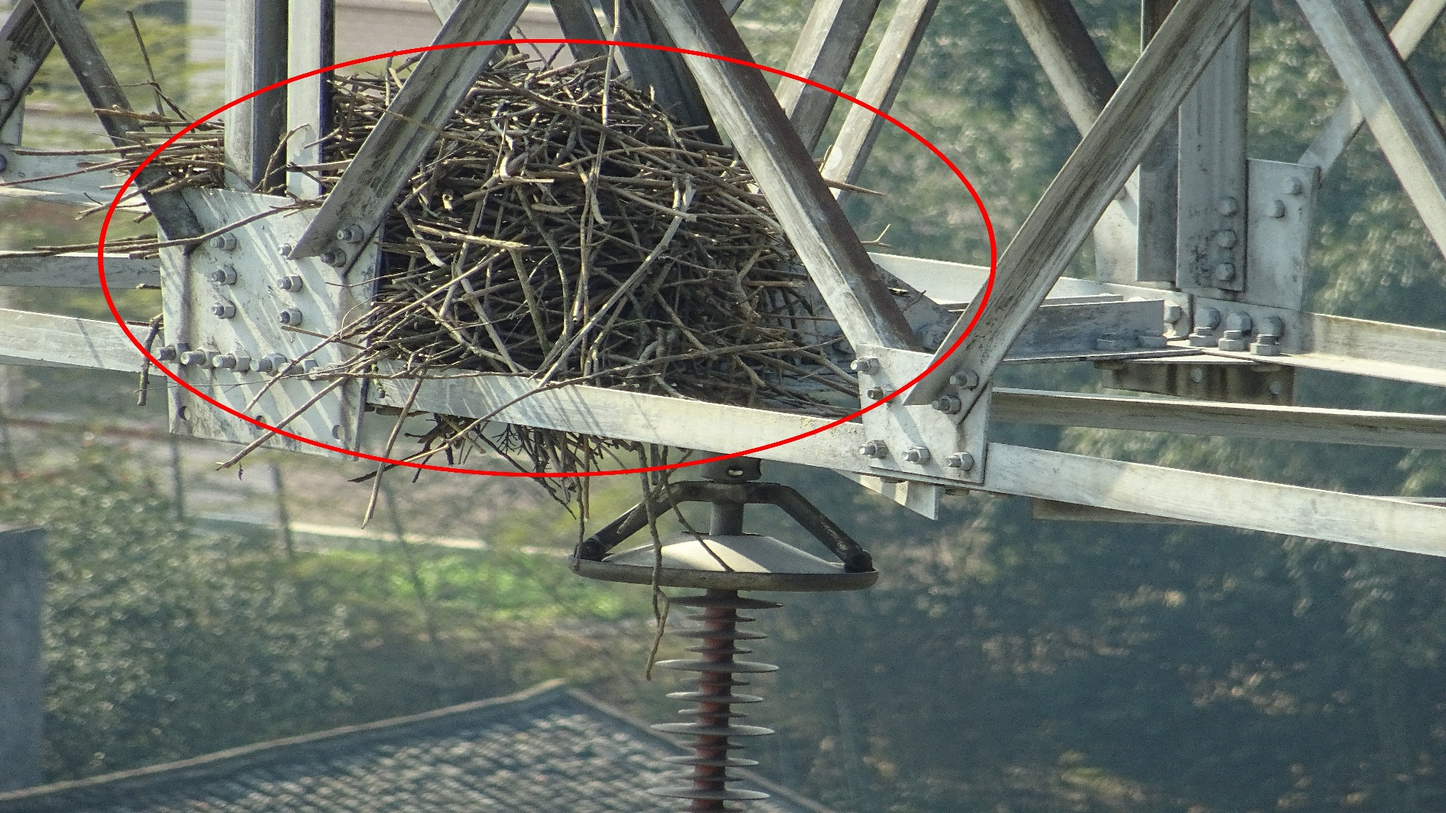insulator: (647, 590, 794, 813)
